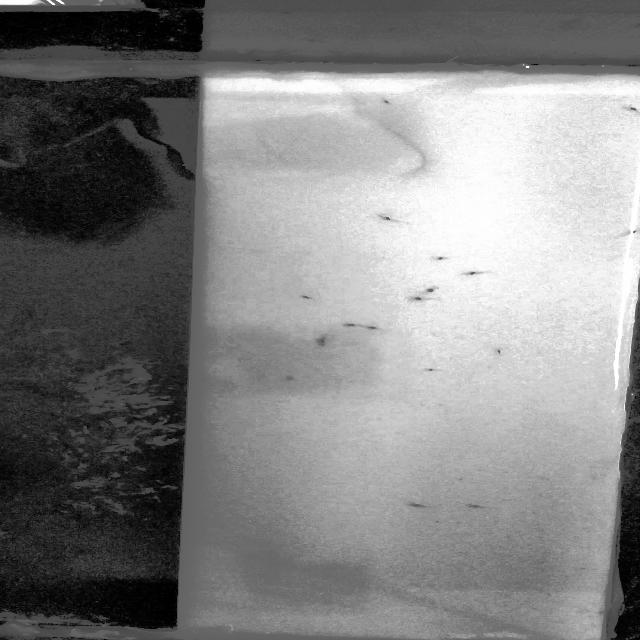shrimp: (374, 214, 408, 227), (401, 500, 433, 510), (457, 502, 492, 511), (420, 283, 444, 296), (429, 254, 464, 262), (298, 292, 325, 302), (377, 96, 396, 108), (622, 104, 640, 116), (458, 271, 500, 276), (488, 344, 507, 355), (360, 323, 384, 331), (314, 336, 333, 346), (340, 320, 358, 330), (279, 374, 300, 382), (404, 297, 438, 301), (426, 366, 441, 373)
